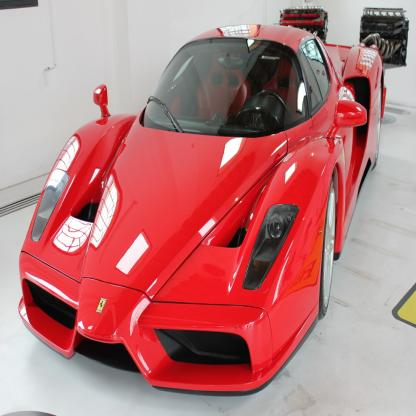Car: (19, 6, 411, 397)
